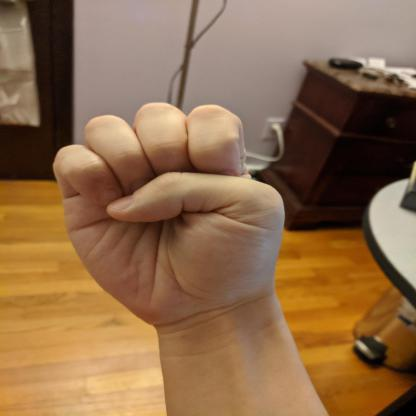E: (53, 102, 288, 330)
